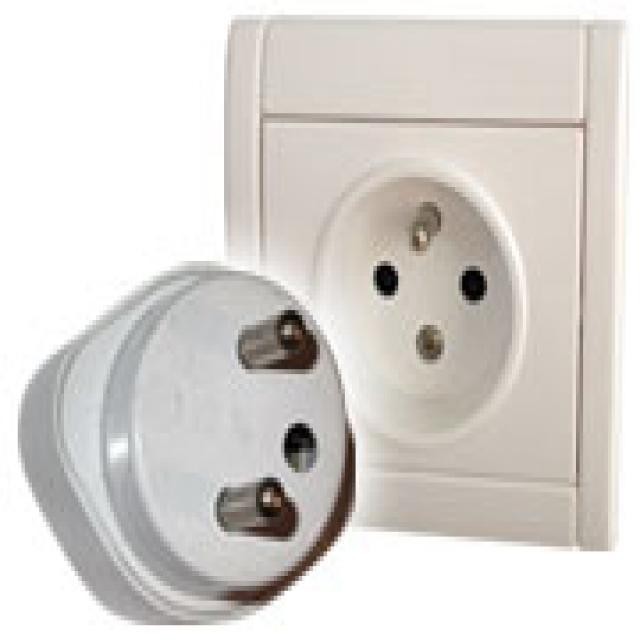typeb: (238, 16, 602, 500)
